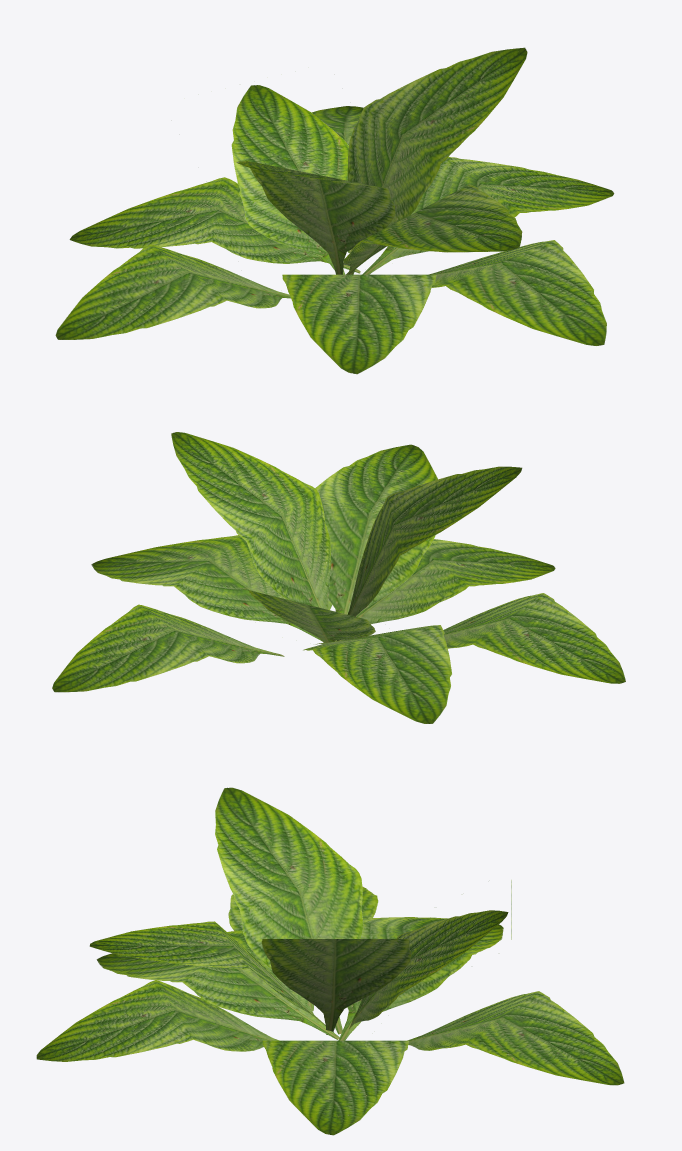
File: detail plant5.FBX
The picture shows the model from 3 angles, top to bottom: view 1: azimuth 30°, elevation 25°; view 2: azimuth 150°, elevation 25°; view 3: azimuth 270°, elevation 25°; orthographic projection. The views are drawn at different scales.
Visible parts, largest first — view 1: detail plant5; view 2: detail plant5; view 3: detail plant5.
Part boxes in pixels (x1=…): detail plant5: x1=55, y1=47, x2=614, y2=374; detail plant5: x1=52, y1=432, x2=625, y2=723; detail plant5: x1=36, y1=787, x2=624, y2=1135.
Bounding box in the file's own units: 3.51 × 1.15 × 3.65.
